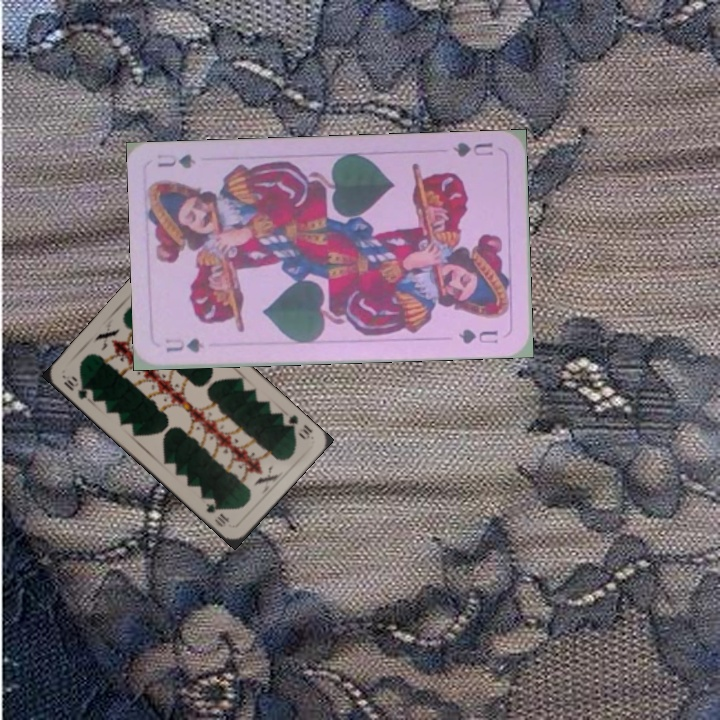G10: (59, 372, 96, 405), (278, 410, 315, 442)
GU: (448, 138, 495, 159), (161, 334, 207, 355)
